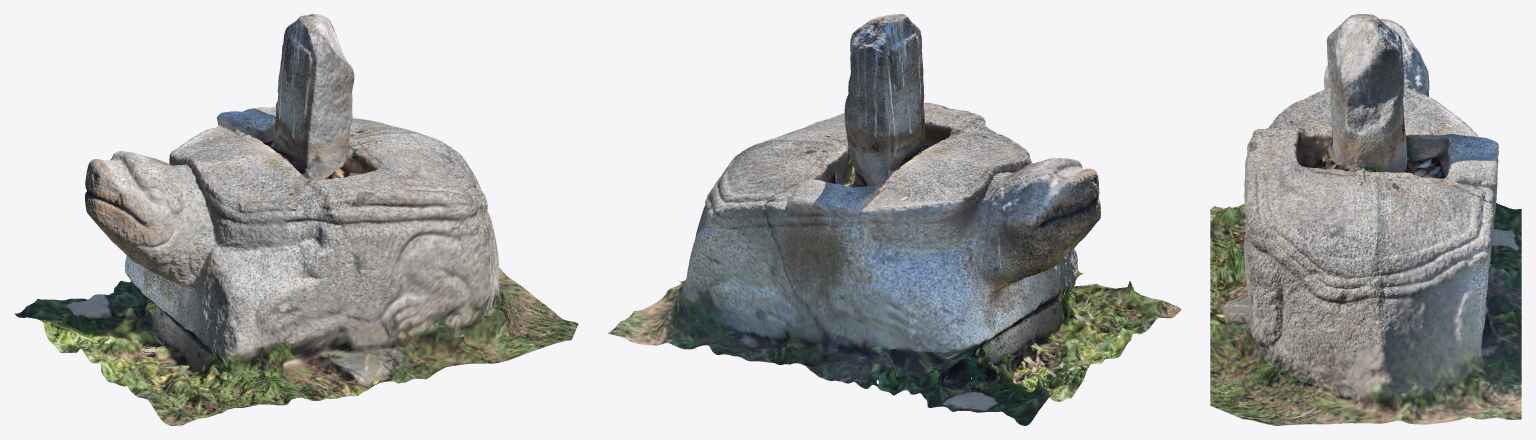
Rendered from turtle.glb.
3 renders of one model, left to right at view 1: azimuth 30°, elevation 25°; view 2: azimuth 150°, elevation 25°; view 3: azimuth 270°, elevation 25°, orthographic. The views are drawn at different scales.
Visible parts, largest first — view 1: Object_3, Object_2, Object_4; view 2: Object_2, Object_3, Object_4; view 3: Object_3, Object_2, Object_4.
Boxes of the visible parts, <box> form: Object_3: <box>85,15,554,405</box>; Object_2: <box>14,14,578,425</box>; Object_4: <box>331,343,477,396</box>; Object_2: <box>624,16,1181,425</box>; Object_3: <box>608,14,1100,358</box>; Object_4: <box>849,49,1024,285</box>; Object_3: <box>1210,14,1521,424</box>; Object_2: <box>1210,14,1521,425</box>; Object_4: <box>1210,38,1404,365</box>.
Size of the model in its own units: 1.62 by 1.17 by 1.06.
Materials: 1 (1 with a texture image).
